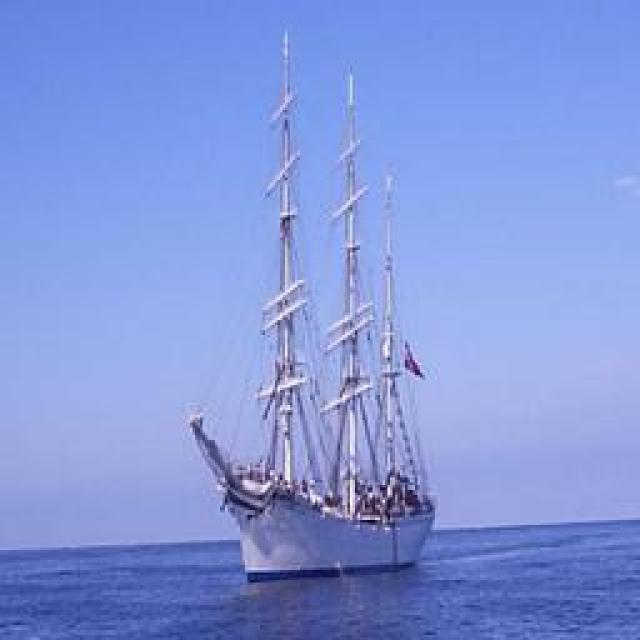CIV_Ship: (191, 26, 439, 579)
